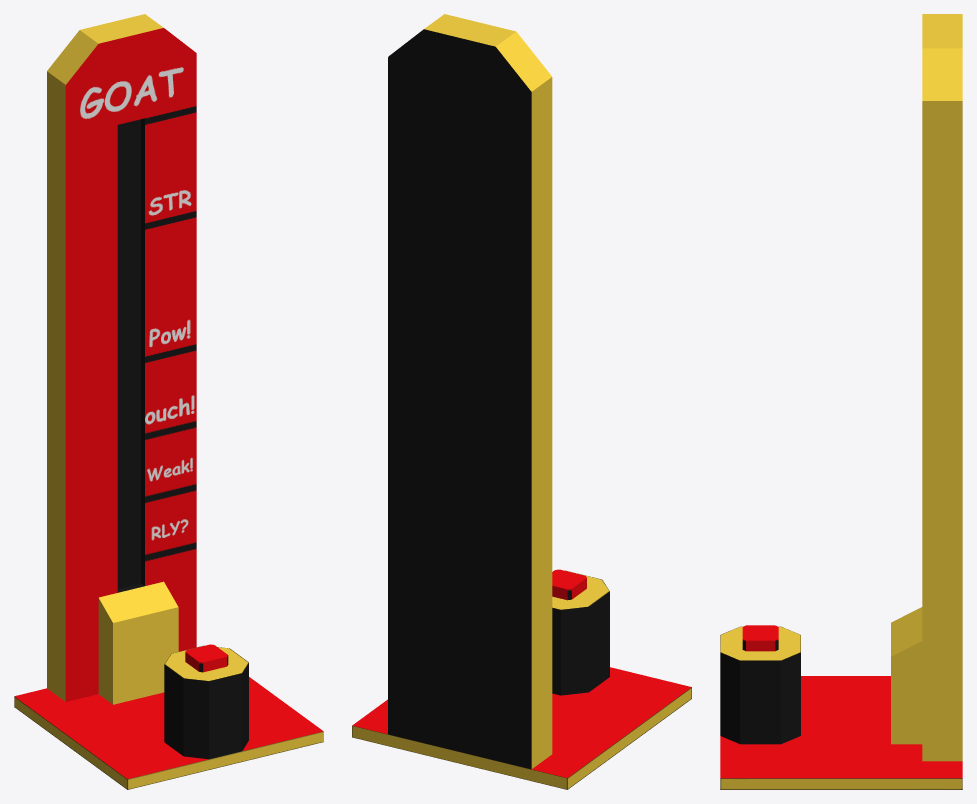
File: High_striker01.fbx
3 views of the same model, side by side, from view 1: azimuth 30°, elevation 25°; view 2: azimuth 150°, elevation 25°; view 3: azimuth 270°, elevation 25° (orthographic). The views are drawn at different scales.
Visible parts, largest first — view 1: High_striker01, High_striker_button01; view 2: High_striker01, High_striker_button01; view 3: High_striker01, High_striker_button01.
Boxes of the visible parts, left/top/right/bottom form: High_striker01: left=14, top=14, right=323, bottom=789; High_striker_button01: left=185, top=644, right=228, bottom=672; High_striker01: left=352, top=14, right=691, bottom=789; High_striker_button01: left=552, top=569, right=586, bottom=600; High_striker01: left=720, top=14, right=962, bottom=789; High_striker_button01: left=742, top=625, right=778, bottom=651.
Size of the model in its own units: 114 by 367 by 114.
Materials: 1 (1 with a texture image).
